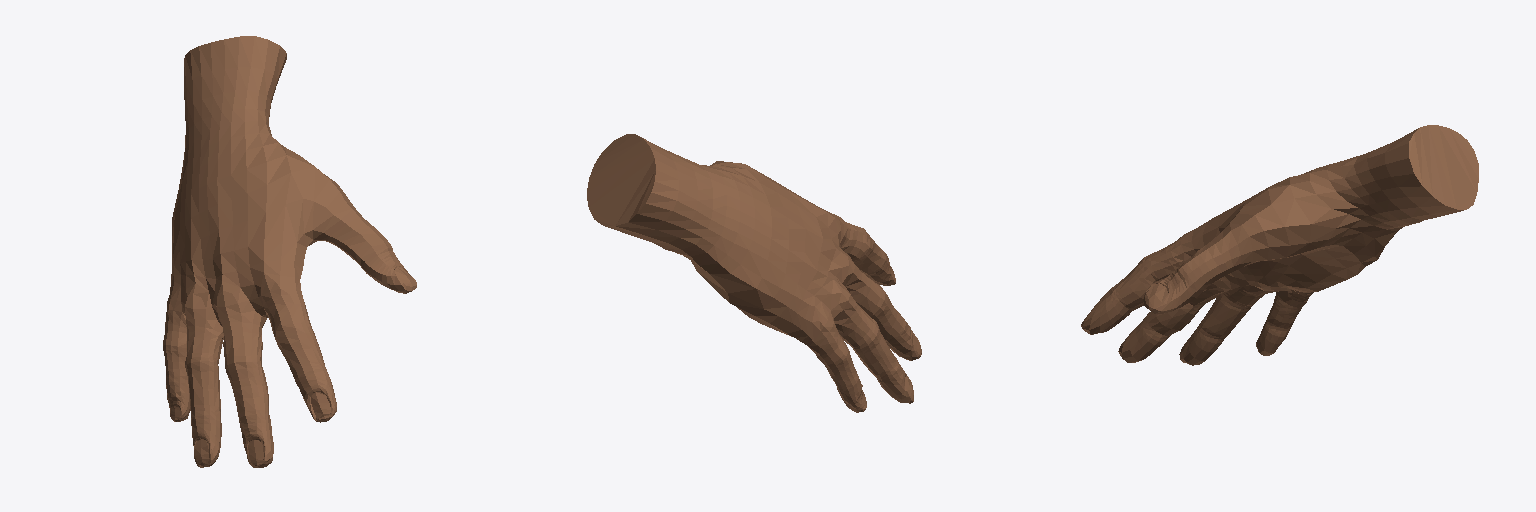
The model's file is HandHall.obj.
3 views of the same model, side by side, from view 1: azimuth 30°, elevation 25°; view 2: azimuth 150°, elevation 25°; view 3: azimuth 270°, elevation 25° (orthographic).
Visible parts, largest first — view 1: HLABOY; view 2: HLABOY; view 3: HLABOY.
Part boxes in pixels (x1,y1,x2,y2): HLABOY: (163,36,416,467); HLABOY: (587,134,921,412); HLABOY: (1081,125,1478,365).
Size of the model in its own units: 1.19 by 1.72 by 2.